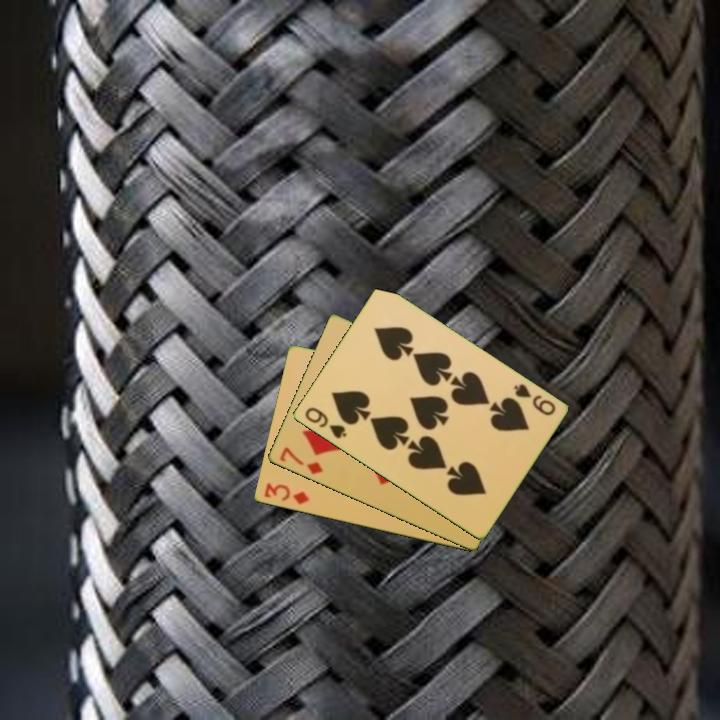3d: (260, 480, 312, 508)
7d: (275, 444, 326, 478)
9s: (510, 380, 558, 419), (301, 404, 349, 442)
